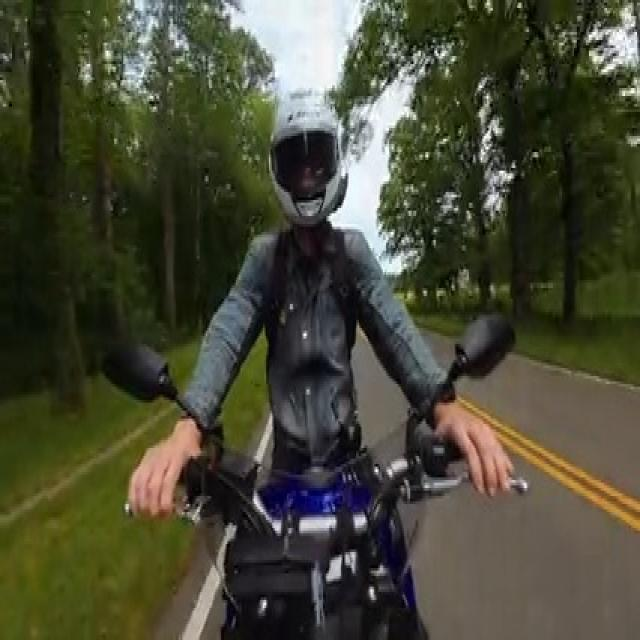Helmet_Wearer: (265, 63, 359, 249)
Person: (130, 79, 515, 510)
